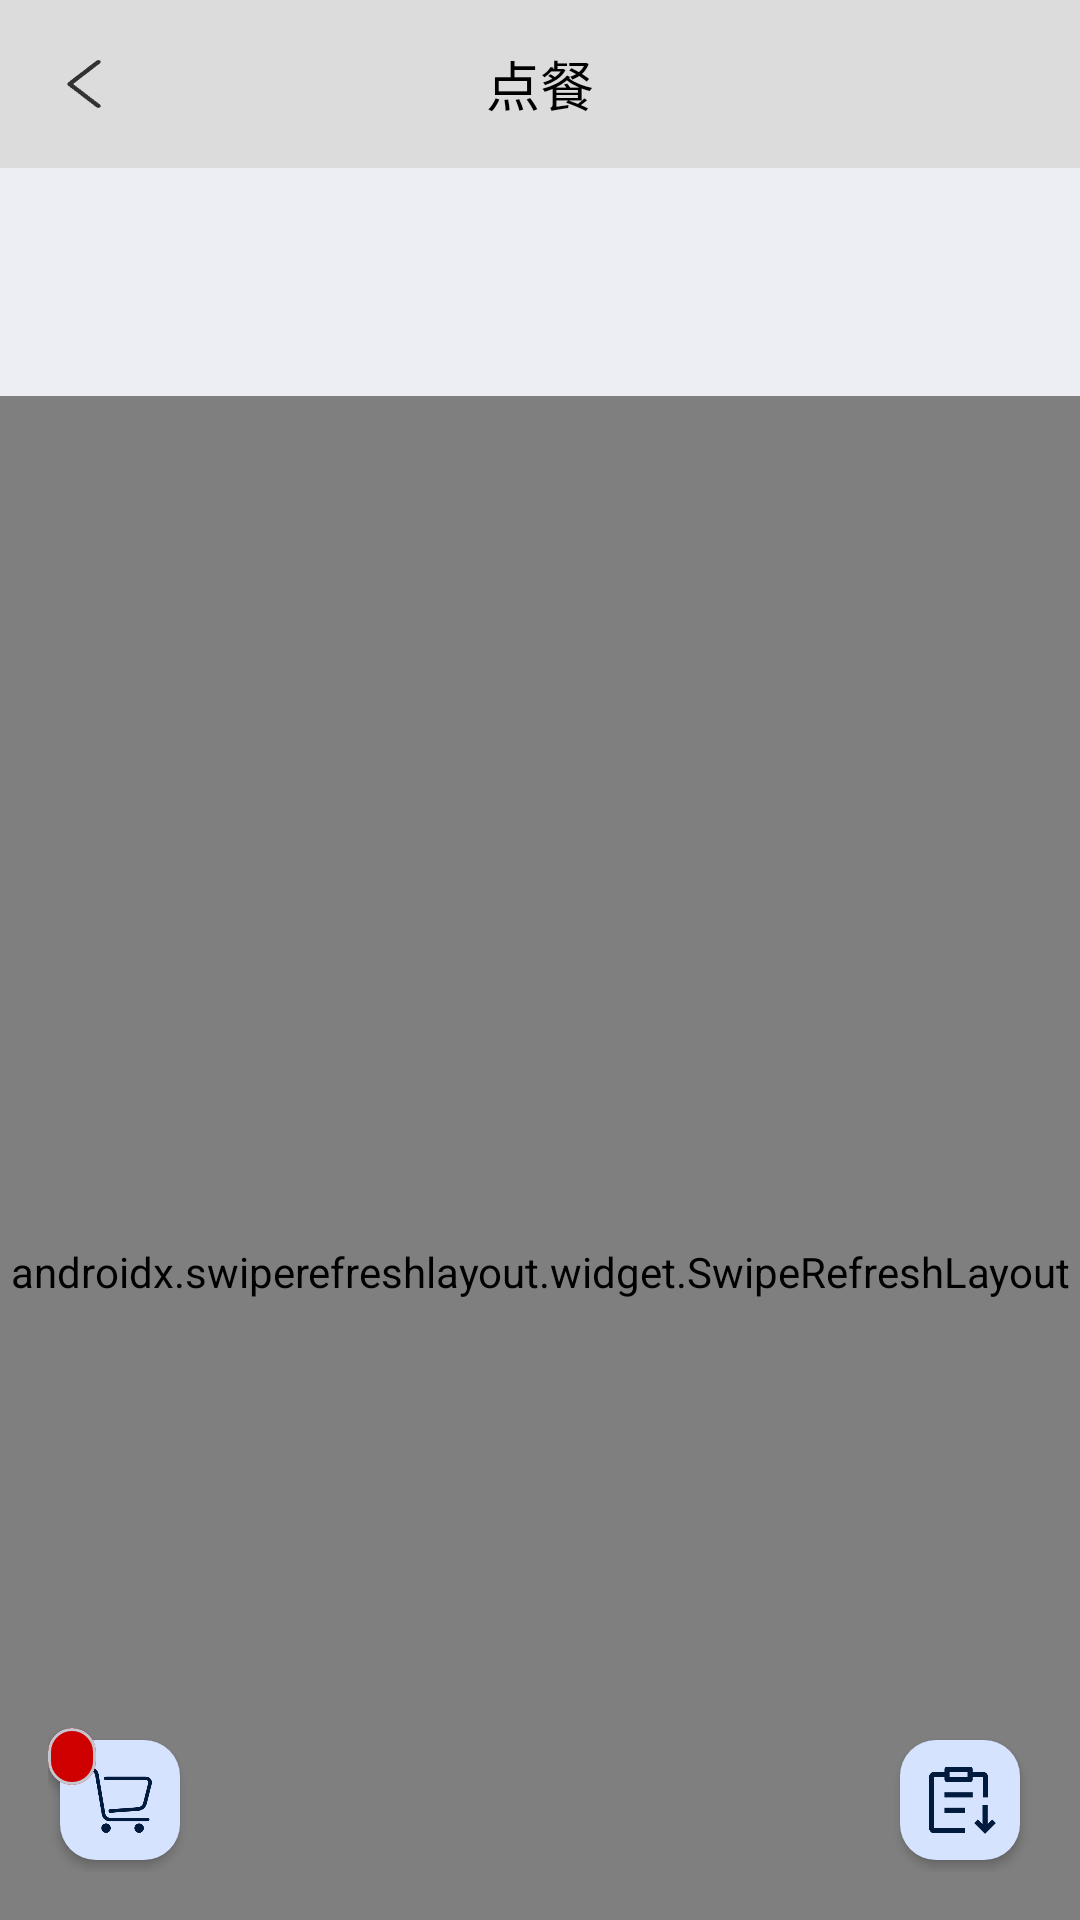

Where to tap for icons on this 1080px x 1920px app screen, as point (x, y):
place orders: point (960, 1800)
shopping car: point (114, 1794)
